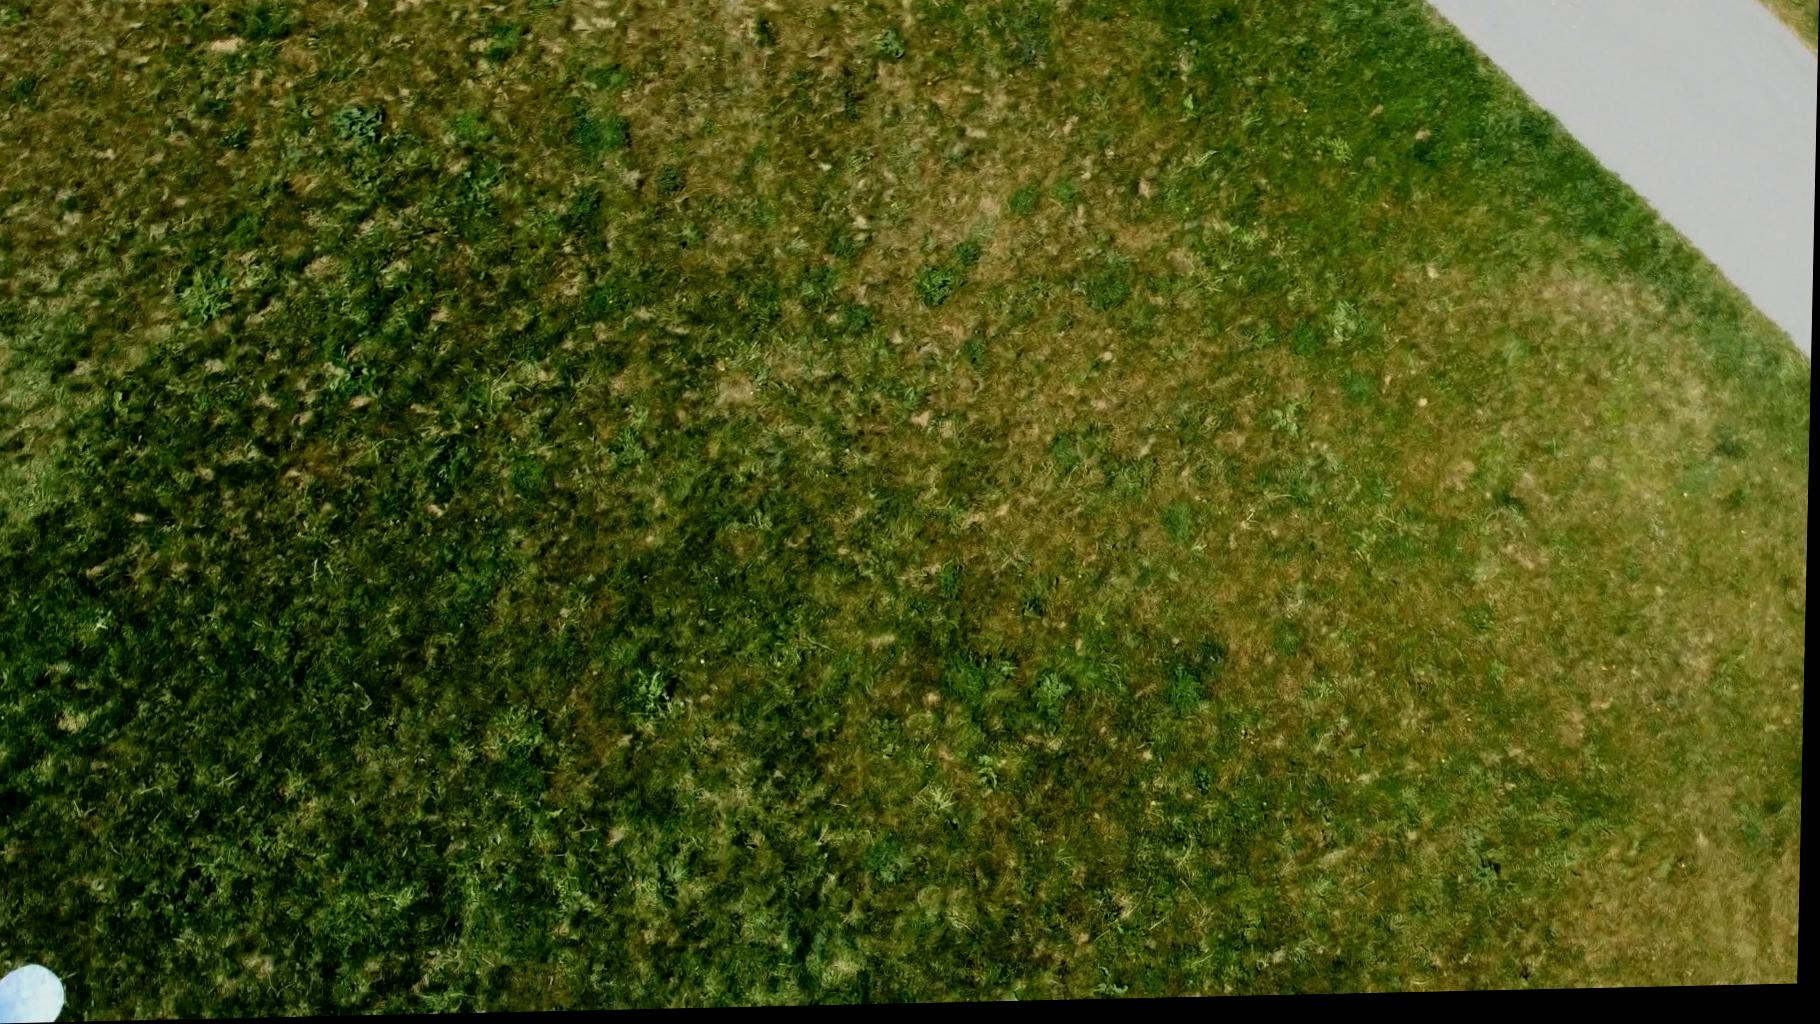Blue: (0, 961, 74, 1024)
